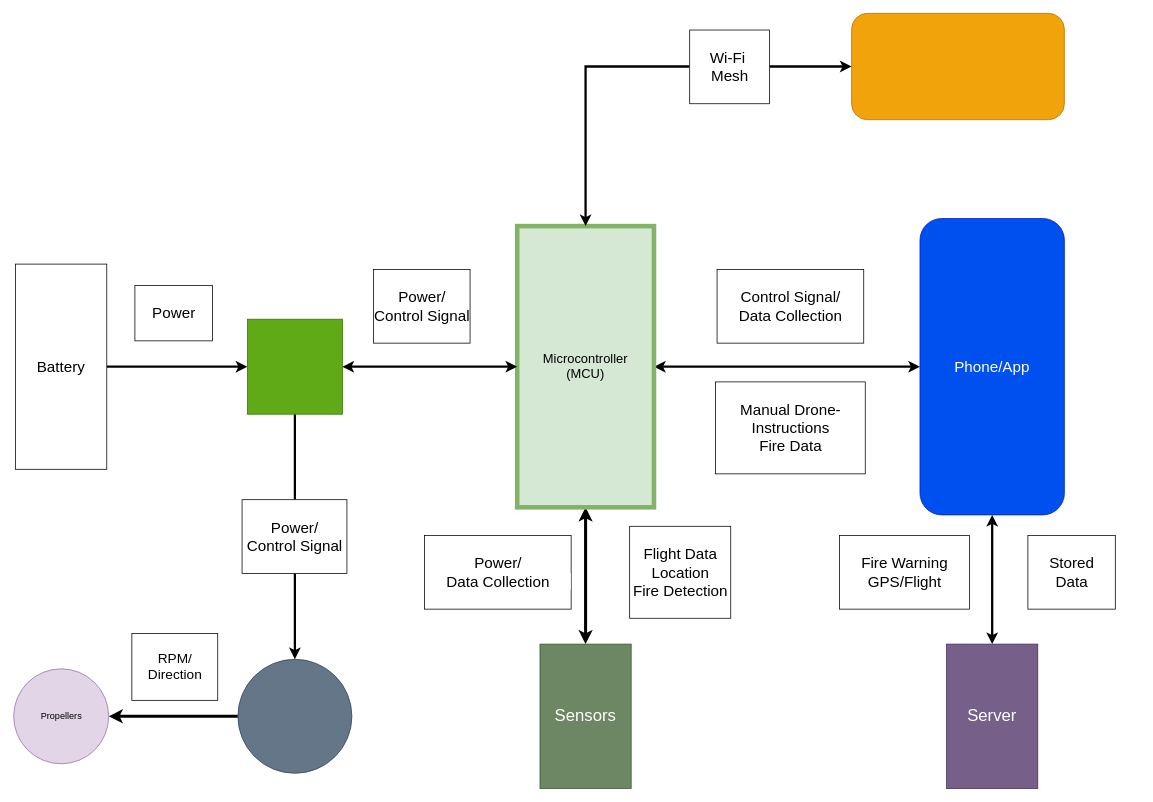
Image size: 1153x802. Some labels were removed from this diagram. The centre of each missing label's shape, as x and y in pixels:
Electronic Speed Controller (ESC): (294,366)
Motors: (294,716)
Other Drone: (957,66)
